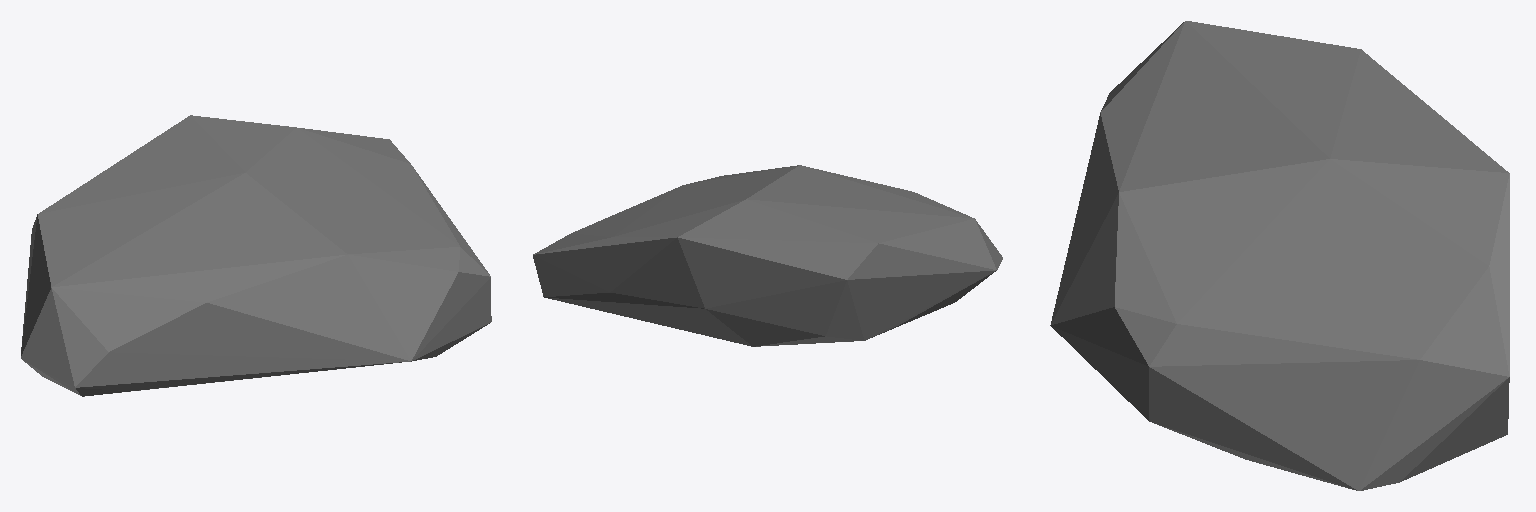
The robot description file, URDF, robot "30_989":
<?xml version="1.0"?>
<robot name="30_989">
  <link name="link">
    <contact>
      <lateral_friction value="0.6"/>
    </contact>
    <inertial>
      <mass value = "0.3396243613444201"/>
      <inertia ixx="0.00012310410832956824" ixy="3.979971583371861e-05" ixz="-2.419874344583607e-05" iyy="0.00024356460299570183" iyz="-1.4020026389795092e-06" izz="0.00032245109834793724" />
    </inertial>
    <visual name="visual">
      <geometry>
        <mesh filename="30_989.obj"/>
      </geometry>
      <material name="material">
        <color rgba="0.5005098643901189 0.5005098643901189 0.5005098643901189 1.0"/>
      </material>
    </visual>
    <collision name="collision">
      <geometry>
        <mesh filename="30_989.obj"/>
      </geometry>
    </collision>
  </link>
</robot>

--- Render facts (derived) ---
3 views of the same robot in one strip: view 1: azimuth 30°, elevation 25°; view 2: azimuth 150°, elevation 25°; view 3: azimuth 270°, elevation 25° (orthographic).
Model 30_989 with 1 links and 0 joints (none), rooted at link, posed every joint at zero.
Links seen in each view (by area): view 1: link; view 2: link; view 3: link.
Link boxes in pixels (left/top/right/bottom): link: left=21, top=115, right=491, bottom=396; link: left=533, top=165, right=1002, bottom=346; link: left=1050, top=21, right=1509, bottom=490.
Size in the robot's own frame: 0.1156 by 0.073 by 0.0336 metres.
Meshes: 1 distinct files referenced, 1 mesh visuals loaded (1 OBJ).
